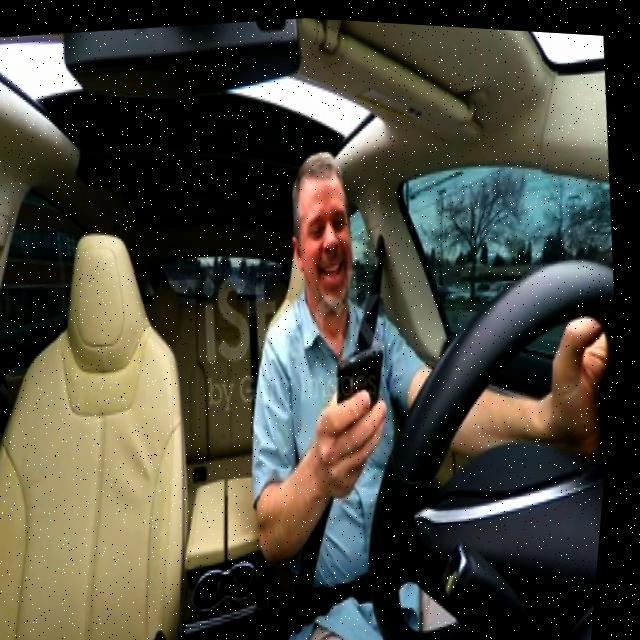PhoneCall: (334, 335, 400, 433)
